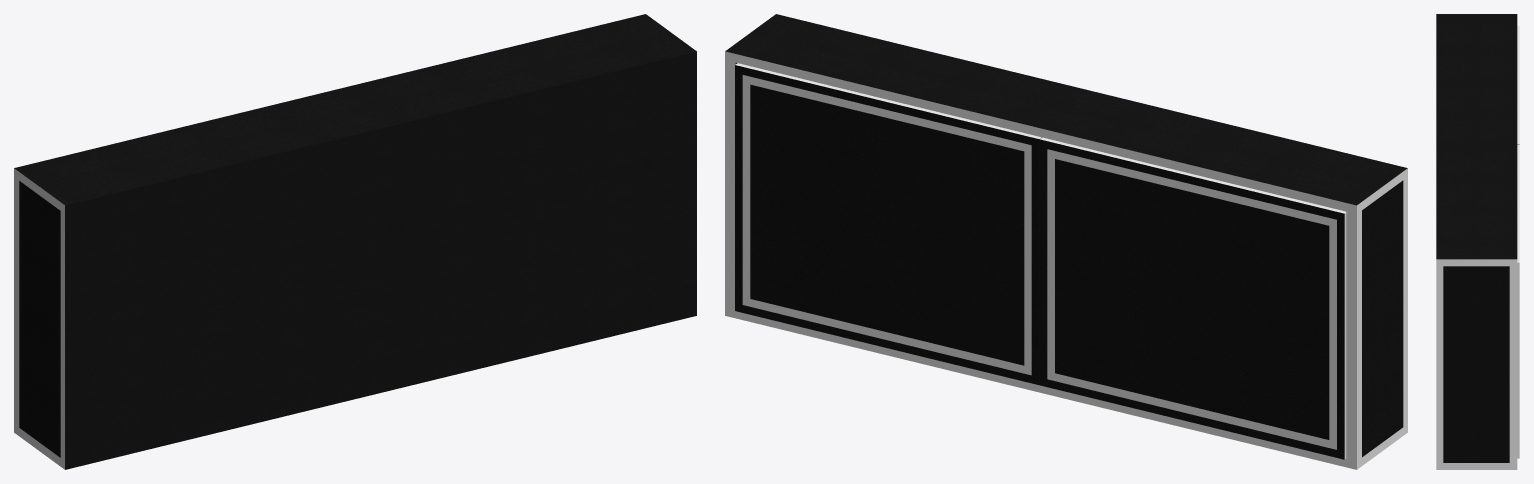
The model's file is ElectricCabinet.FBX.
3 views of the same model, side by side, from view 1: azimuth 30°, elevation 25°; view 2: azimuth 150°, elevation 25°; view 3: azimuth 270°, elevation 25° (orthographic). The views are drawn at different scales.
Visible parts, largest first — view 1: ElectricCabinet; view 2: ElectricCabinet; view 3: ElectricCabinet.
Part boxes in pixels (bbox=[...]): ElectricCabinet: bbox=[14, 14, 696, 469]; ElectricCabinet: bbox=[725, 14, 1407, 469]; ElectricCabinet: bbox=[1436, 14, 1519, 469].
Size of the model in its own units: 201 by 80.26 by 28.89.
